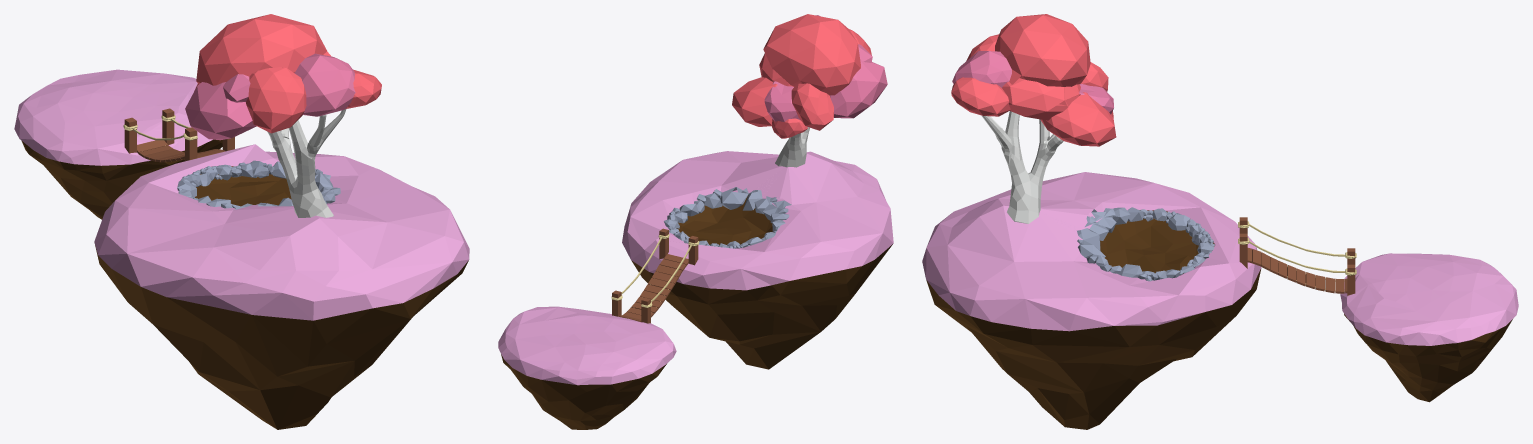
The model's file is mainIsland2.0-cherry.fbx.
3 views of the same model, side by side, from view 1: azimuth 30°, elevation 25°; view 2: azimuth 150°, elevation 25°; view 3: azimuth 270°, elevation 25° (orthographic). The views are drawn at different scales.
Parts seen in each view (by area): view 1: Cube.005, Plane.008, Cube.006; view 2: Cube.005, Cube.006, Plane.008; view 3: Cube.005, Cube.006, Plane.008.
Boxes of the visible parts, left/top/right/bottom form: Cube.005: left=94, top=108, right=469, bottom=429; Plane.008: left=185, top=14, right=381, bottom=217; Cube.006: left=14, top=69, right=222, bottom=219; Cube.005: left=611, top=151, right=893, bottom=369; Cube.006: left=498, top=306, right=676, bottom=429; Plane.008: left=732, top=14, right=887, bottom=167; Cube.005: left=922, top=172, right=1356, bottom=429; Cube.006: left=1340, top=253, right=1518, bottom=402; Plane.008: left=951, top=14, right=1116, bottom=223.
Bounding box in the file's own units: 238 × 322 × 450.
